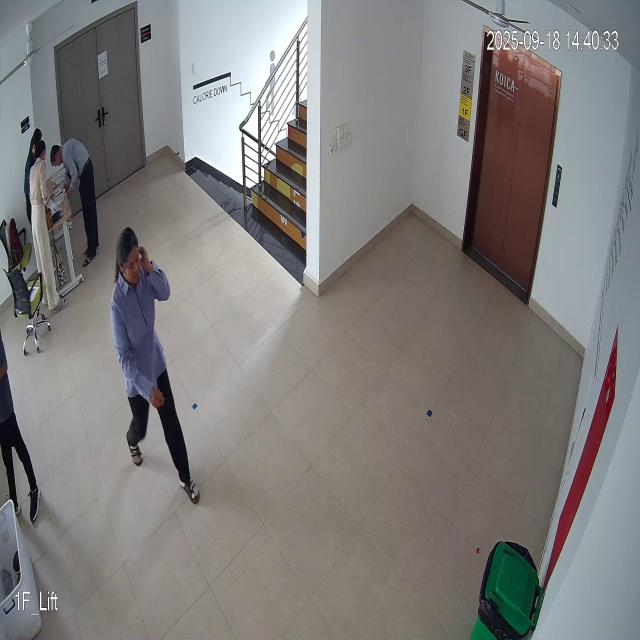face: (115, 223, 149, 289)
